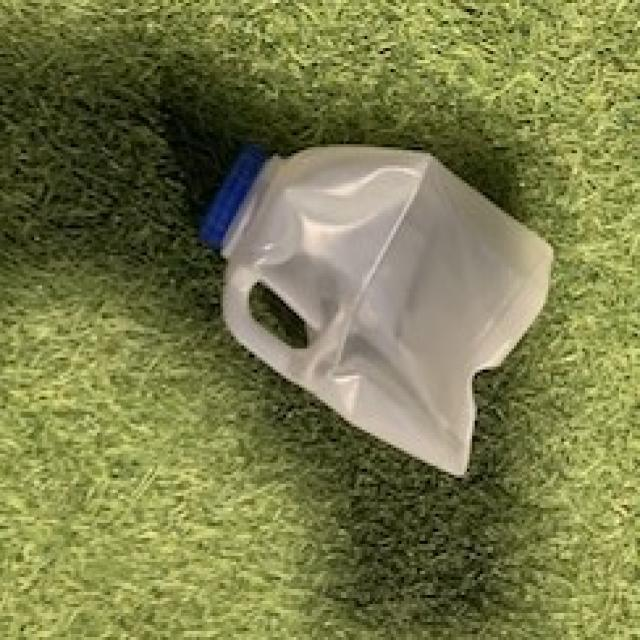HDPE Plastic: (195, 140, 558, 484)
